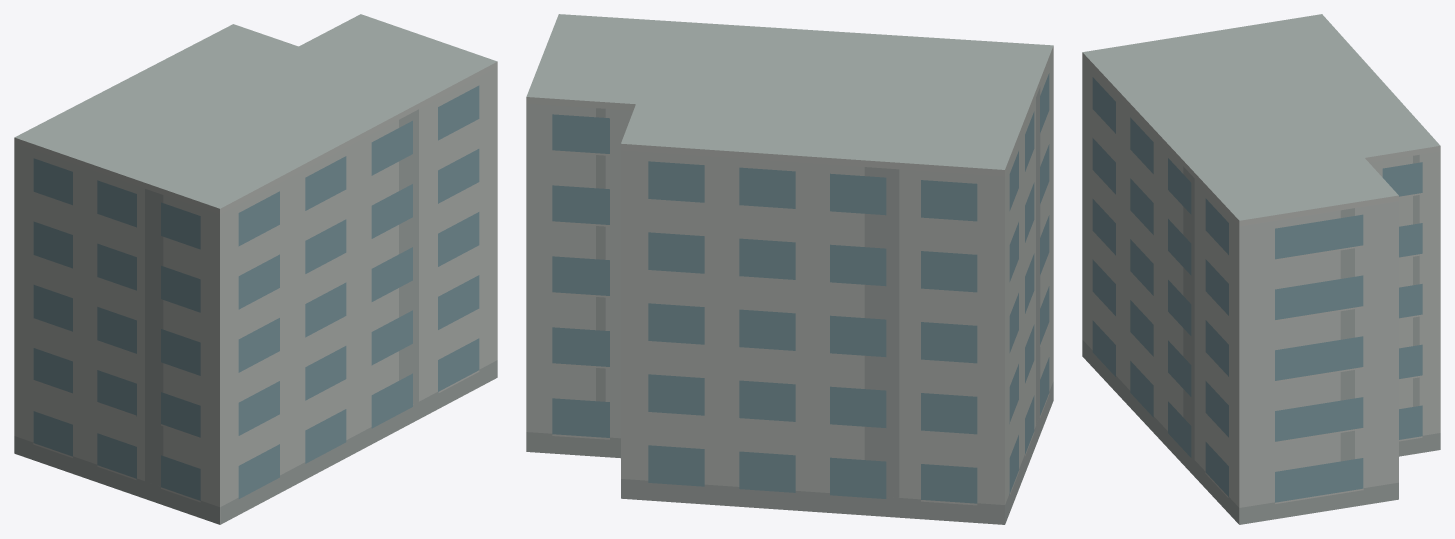
The model's file is survey-upis-32849932.glb.
3 views of the same model, side by side, from view 1: azimuth 30°, elevation 25°; view 2: azimuth 150°, elevation 25°; view 3: azimuth 270°, elevation 25° (orthographic). The views are drawn at different scales.
Parts seen in each view (by area): view 1: survey-upis-32849932.tmp; view 2: survey-upis-32849932.tmp; view 3: survey-upis-32849932.tmp.
Part boxes in pixels (x1,y1,x2,y2): survey-upis-32849932.tmp: (14,14,497,524); survey-upis-32849932.tmp: (526,14,1053,524); survey-upis-32849932.tmp: (1082,14,1440,524).
Size of the model in its own units: 19.11 by 13.1 by 13.99.
